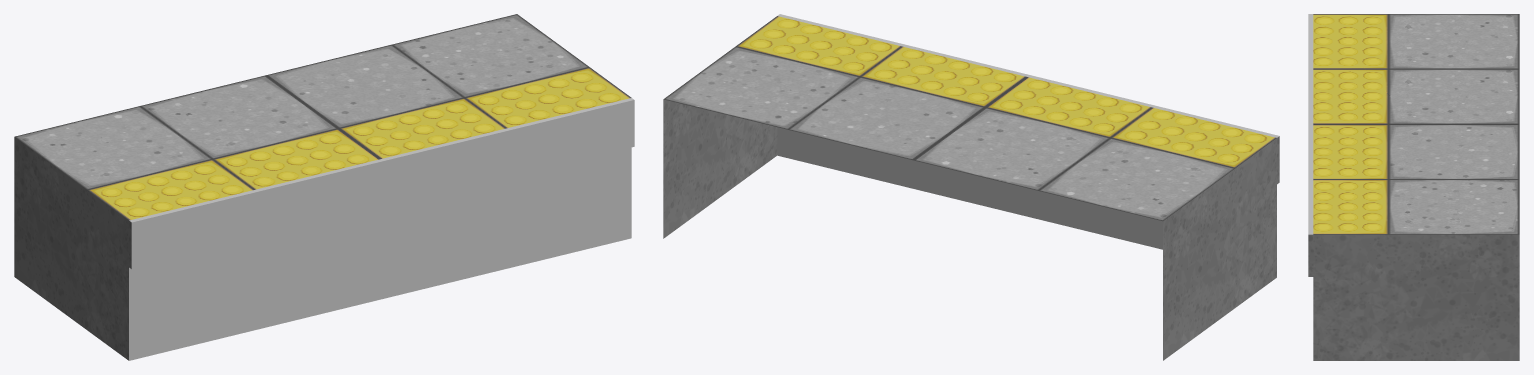
Rendered from SM_Platform_Stop_4m.fbx.
3 views of the same model, side by side, from view 1: azimuth 30°, elevation 25°; view 2: azimuth 150°, elevation 25°; view 3: azimuth 270°, elevation 25° (orthographic). The views are drawn at different scales.
Visible parts, largest first — view 1: SM_Platform_Stop_4m; view 2: SM_Platform_Stop_4m; view 3: SM_Platform_Stop_4m.
Part boxes in pixels (x1,y1,x2,y2): SM_Platform_Stop_4m: (14, 14, 634, 360); SM_Platform_Stop_4m: (663, 14, 1279, 360); SM_Platform_Stop_4m: (1308, 14, 1519, 360).
Bounding box in the file's own units: 400 × 107 × 162.
